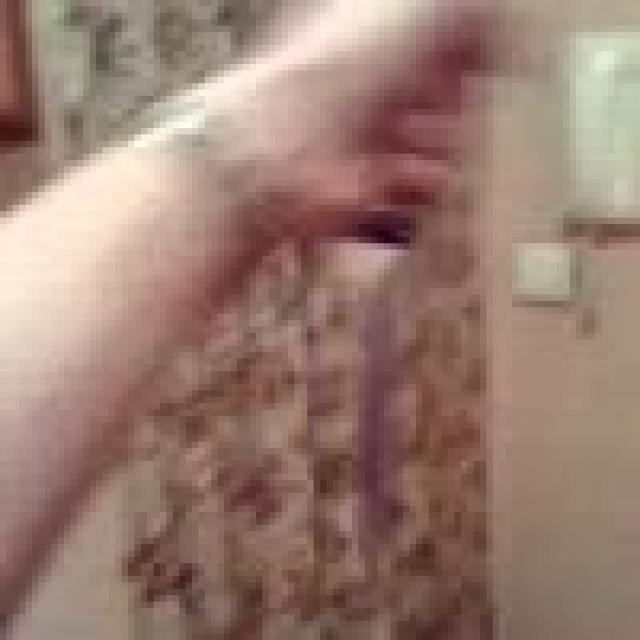knife: (348, 232, 410, 557)
